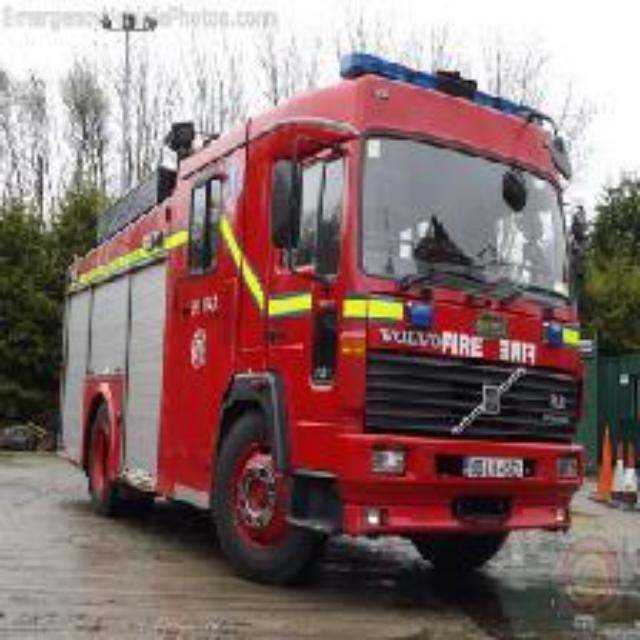emergency: (66, 56, 592, 596)
